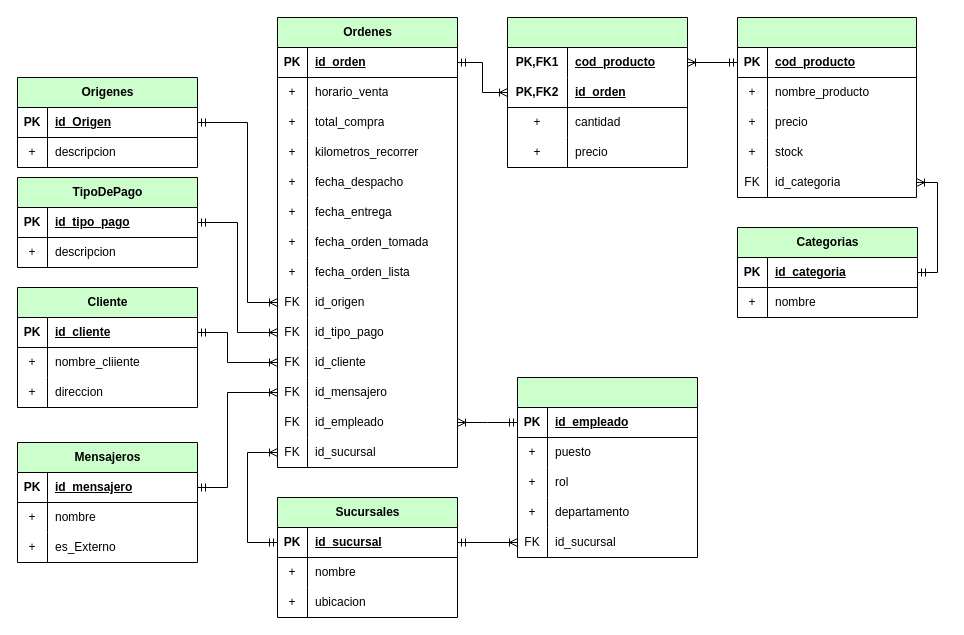
Image size: 964x635. Some labels were removed from this diagram. The shapes that lost their labels are listed below. From the top down, each one's box as (x1, y1, x2, y2) in pixels, then its label:
(506, 16, 688, 168): TEA DETALLES
(736, 16, 916, 198): Productos
(516, 376, 698, 558): Empleados
